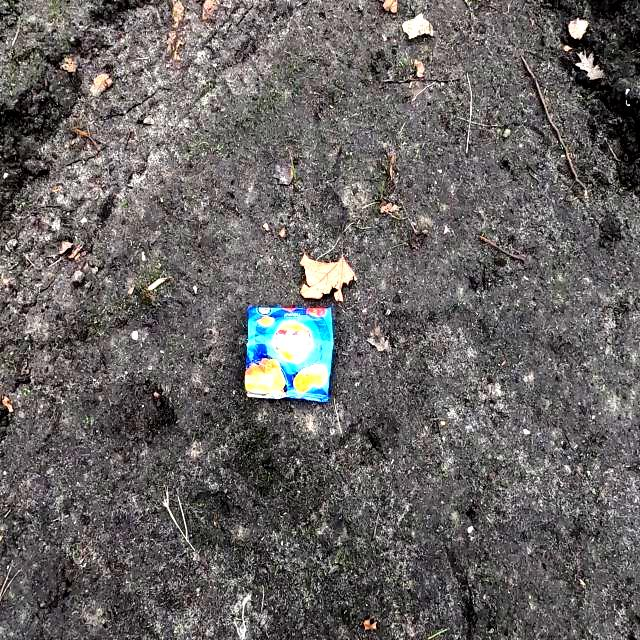Plastic: (243, 305, 334, 403)
